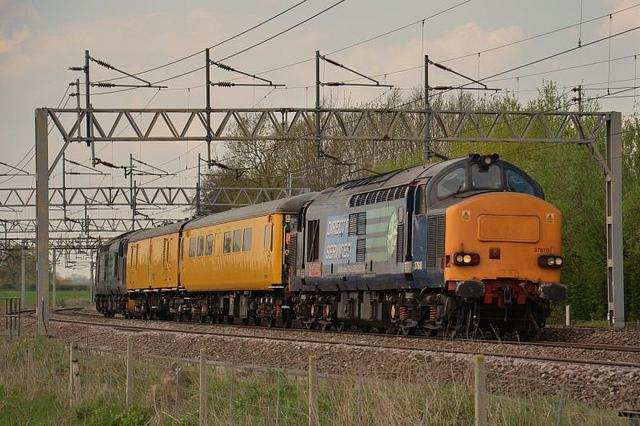Train: (97, 160, 566, 334)
